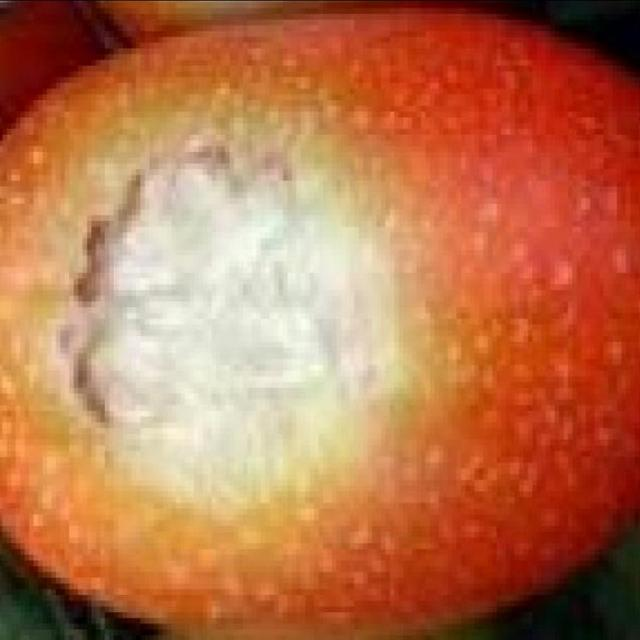Sunscald Fruit: (31, 78, 281, 343)
